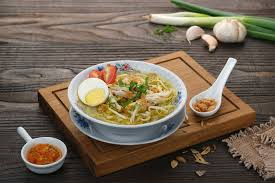Soto: (75, 60, 178, 125)
